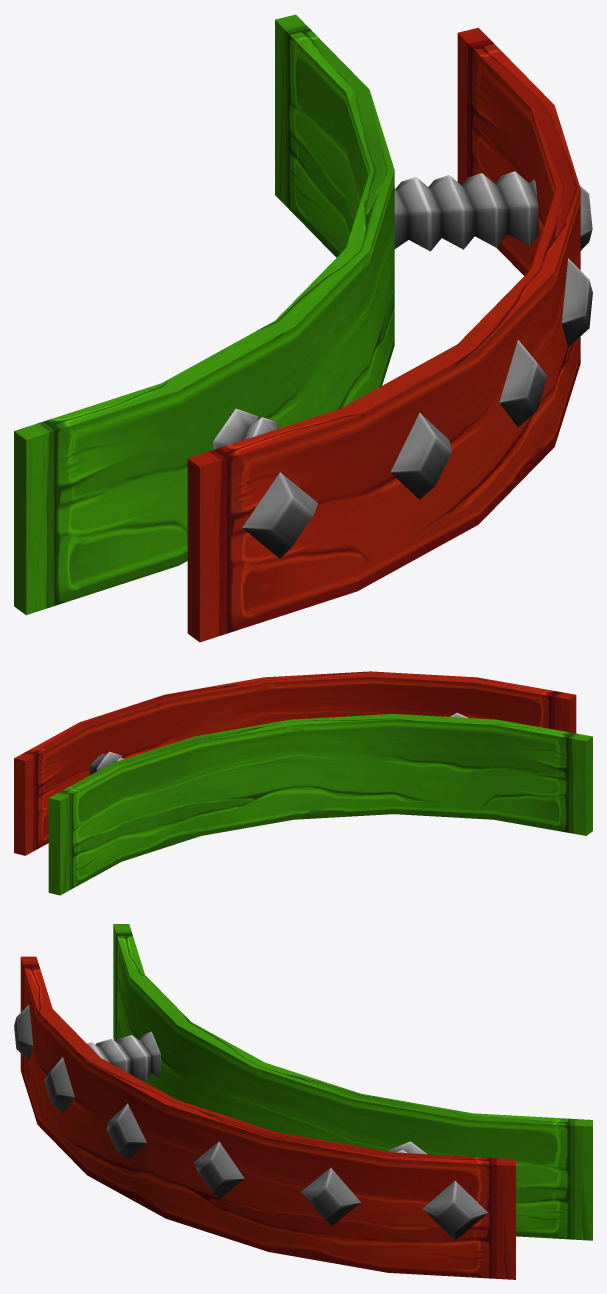
File: arched_fence_burger_04.fbx
3 views of the same model, one above another, from view 1: azimuth 30°, elevation 25°; view 2: azimuth 150°, elevation 25°; view 3: azimuth 270°, elevation 25° (orthographic). The views are drawn at different scales.
Parts seen in each view (by area): view 1: arched_fence_burger_04; view 2: arched_fence_burger_04; view 3: arched_fence_burger_04.
Part boxes in pixels (x1=…): arched_fence_burger_04: x1=14, y1=14, x2=592, y2=642; arched_fence_burger_04: x1=14, y1=671, x2=592, y2=895; arched_fence_burger_04: x1=14, y1=924, x2=592, y2=1279.
Size of the model in its own units: 185 by 40 by 184.
